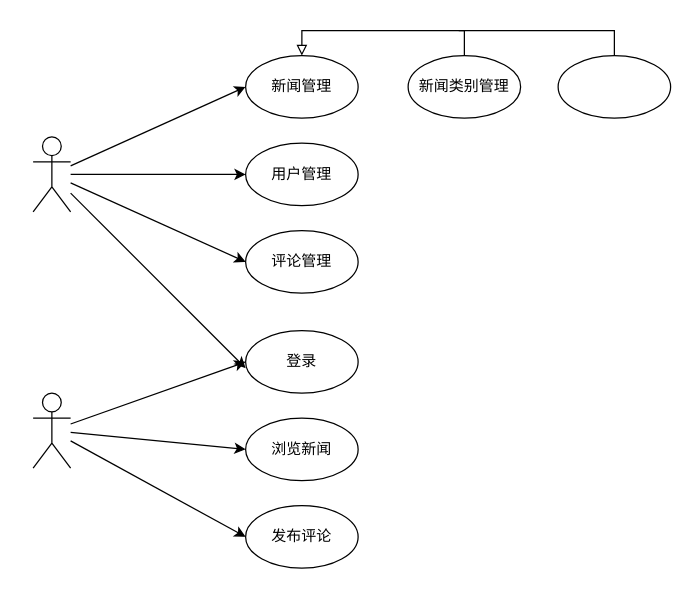
Image size: 693x590. Some labels were removed from this diagram. Here are the shapes that lost their labels. From the top down, the centre of each, then its label:
At pixel 614 86: "新闻发布管理".
At pixel 51 174: "管理员".
At pixel 51 430: "普通用户".
